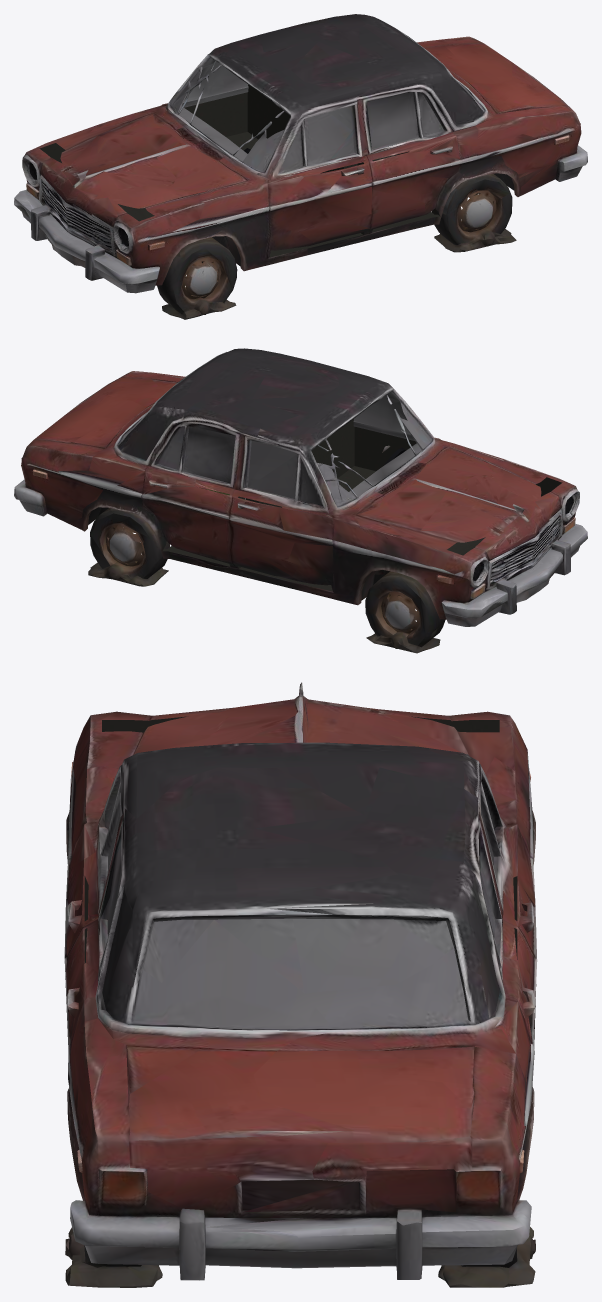
Rendered from car_sedan_b.glb.
3 renders of one model, top to bottom at view 1: azimuth 30°, elevation 25°; view 2: azimuth 150°, elevation 25°; view 3: azimuth 270°, elevation 25°, orthographic. The views are drawn at different scales.
Visible parts, largest first — view 1: body, door_front_1, hood, door_front_2, trunk, wheel_4, wheel_1, door_back_1; view 2: body, door_back_1, hood, door_back_2, trunk, wheel_3, wheel_2, door_front_1; view 3: body, trunk, hood, door_back_2, door_front_2, door_front_1, door_back_1.
Part boxes in pixels (box(x1,y1,x2,y2)): body: box(14, 14, 587, 319); door_front_1: box(255, 103, 373, 263); hood: box(53, 109, 255, 217); door_front_2: box(359, 79, 470, 238); trunk: box(417, 36, 575, 136); wheel_4: box(443, 174, 512, 249); wheel_1: box(177, 236, 244, 314); door_back_1: box(159, 57, 248, 136); body: box(14, 348, 587, 653); door_back_1: box(228, 438, 347, 597); hood: box(346, 444, 548, 551); door_back_2: box(132, 414, 242, 572); trunk: box(26, 371, 185, 471); wheel_3: box(90, 508, 169, 584); wheel_2: box(357, 570, 423, 649); door_front_1: box(353, 391, 442, 470); body: box(65, 707, 535, 1287); trunk: box(77, 1028, 524, 1145); hood: box(79, 682, 522, 824); door_back_2: box(469, 822, 537, 1093); door_front_2: box(64, 821, 132, 1094); door_front_1: box(64, 763, 122, 958); door_back_1: box(480, 765, 536, 958).
Bounding box in the file's own units: 4.5 × 1.55 × 1.9.
Materials: 7 (4 with a texture image).
